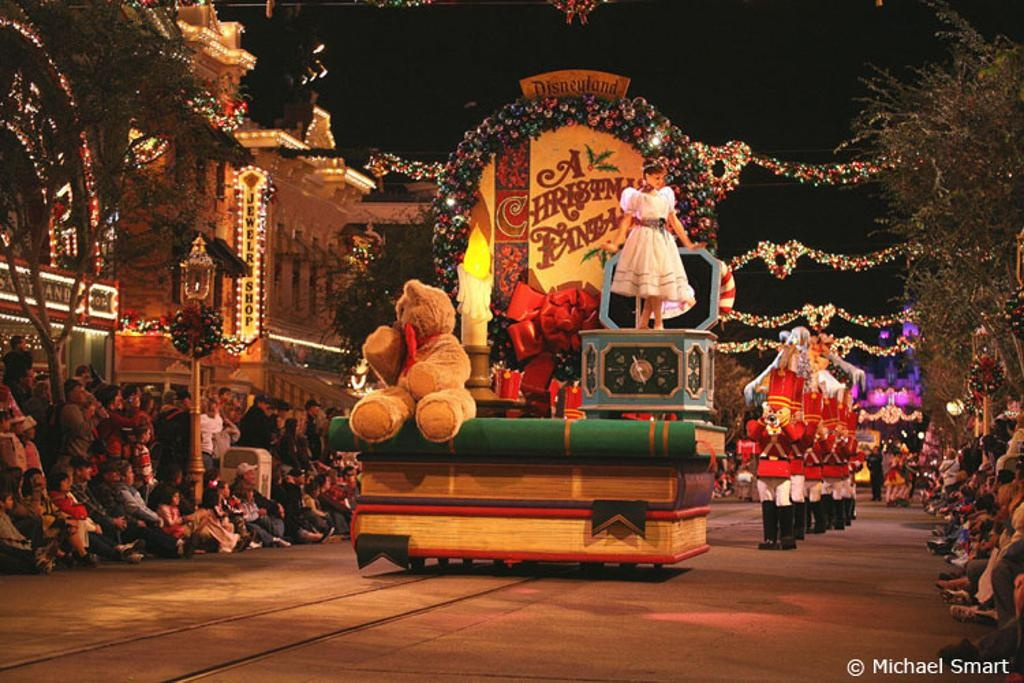human_face: (118, 466, 134, 484), (648, 171, 662, 189), (104, 466, 118, 481), (79, 463, 91, 479), (31, 475, 43, 491), (242, 468, 254, 482), (70, 386, 80, 401), (80, 367, 90, 382), (60, 476, 70, 490), (279, 404, 289, 418), (206, 403, 216, 416), (2, 495, 12, 508), (112, 391, 120, 405), (141, 430, 149, 442), (310, 486, 318, 498), (171, 492, 179, 503), (310, 405, 318, 415), (290, 474, 298, 484), (322, 478, 330, 488), (181, 396, 189, 406), (223, 390, 231, 400), (222, 483, 228, 496), (258, 400, 266, 408), (18, 338, 24, 348)
